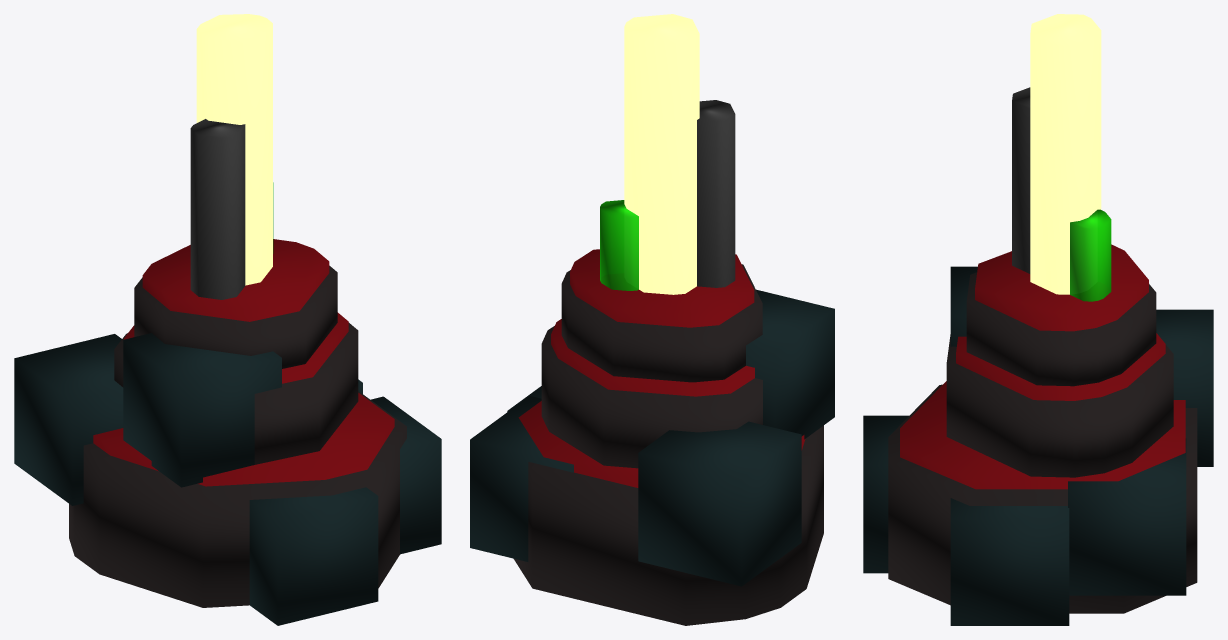
3 renders of one model, left to right at view 1: azimuth 30°, elevation 25°; view 2: azimuth 150°, elevation 25°; view 3: azimuth 270°, elevation 25°, orthographic. The views are drawn at different scales.
Parts seen in each view (by area): view 1: 立方体.069, 立方体.075, 立方体.073, 立方体.076, 立方体.072, 立方体.077, 立方体.071, 立方体.079, 立方体.068, 立方体.066, 立方体.074, 立方体.067; view 2: 立方体.069, 立方体.076, 立方体.072, 立方体.079, 立方体.071, 立方体.075, 立方体.070, 立方体.077, 立方体.068, 立方体.067, 立方体.078, 立方体.066; view 3: 立方体.079, 立方体.072, 立方体.070, 立方体.074, 立方体.069, 立方体.071, 立方体.066, 立方体.068, 立方体.076, 立方体.073, 立方体.067, 立方体.078 (+2 smaller).
Part boxes in pixels (bbox=[...]): 立方体.069: bbox=[69, 391, 406, 607]; 立方体.075: bbox=[123, 333, 281, 487]; 立方体.073: bbox=[249, 487, 378, 625]; 立方体.076: bbox=[14, 334, 123, 505]; 立方体.072: bbox=[196, 14, 272, 285]; 立方体.077: bbox=[190, 119, 245, 299]; 立方体.071: bbox=[134, 265, 337, 368]; 立方体.079: bbox=[114, 322, 358, 464]; 立方体.068: bbox=[142, 239, 329, 321]; 立方体.066: bbox=[93, 393, 394, 486]; 立方体.074: bbox=[371, 396, 441, 554]; 立方体.067: bbox=[123, 312, 348, 383]; 立方体.069: bbox=[514, 425, 823, 625]; 立方体.076: bbox=[638, 421, 801, 586]; 立方体.072: bbox=[624, 14, 699, 294]; 立方体.079: bbox=[541, 326, 762, 468]; 立方体.071: bbox=[561, 264, 762, 382]; 立方体.075: bbox=[746, 289, 834, 439]; 立方体.070: bbox=[470, 396, 573, 561]; 立方体.077: bbox=[697, 100, 735, 287]; 立方体.068: bbox=[570, 249, 754, 327]; 立方体.067: bbox=[551, 319, 754, 396]; 立方体.078: bbox=[600, 200, 638, 290]; 立方体.066: bbox=[518, 401, 805, 487]; 立方体.079: bbox=[946, 334, 1173, 477]; 立方体.072: bbox=[1030, 14, 1101, 294]; 立方体.070: bbox=[1068, 438, 1186, 595]; 立方体.074: bbox=[950, 498, 1069, 625]; 立方体.069: bbox=[888, 384, 1197, 613]; 立方体.071: bbox=[966, 272, 1156, 386]; 立方体.066: bbox=[900, 381, 1185, 489]; 立方体.068: bbox=[975, 244, 1148, 331]; 立方体.076: bbox=[1156, 309, 1213, 466]; 立方体.073: bbox=[863, 415, 908, 573]; 立方体.067: bbox=[956, 333, 1165, 400]; 立方体.078: bbox=[1070, 209, 1111, 301].
Bounding box in the file's own units: 6.36 × 10.42 × 6.33.
